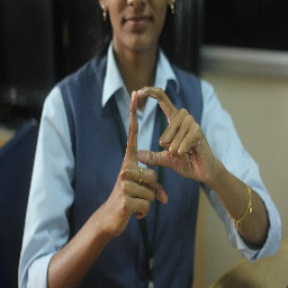D: (116, 81, 194, 186)
